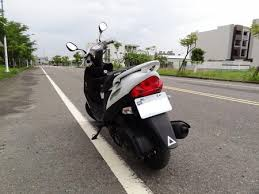motorcycle: (64, 21, 193, 171)
